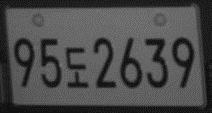2: (92, 37, 118, 89)
3: (144, 37, 169, 88)
5: (39, 37, 61, 88)
6: (119, 36, 143, 88)
9: (171, 36, 194, 88), (13, 37, 35, 88)
도: (64, 45, 89, 88)
